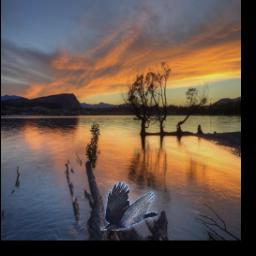Crow: (101, 182, 158, 232)
